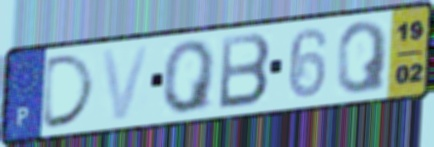6: (287, 25, 330, 102)
B: (216, 31, 273, 112)
D: (39, 51, 98, 132)
Q: (161, 37, 220, 117), (334, 18, 391, 97)
V: (99, 42, 154, 124)
